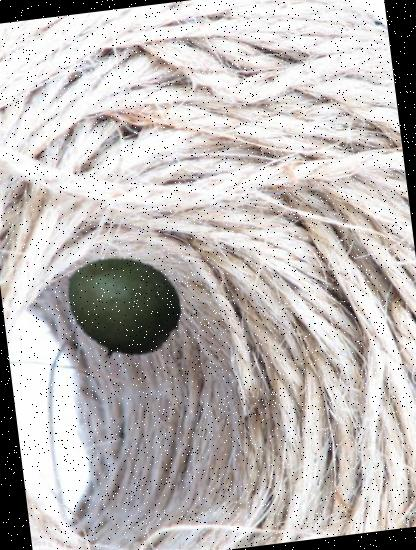Mango: (54, 240, 190, 376)
